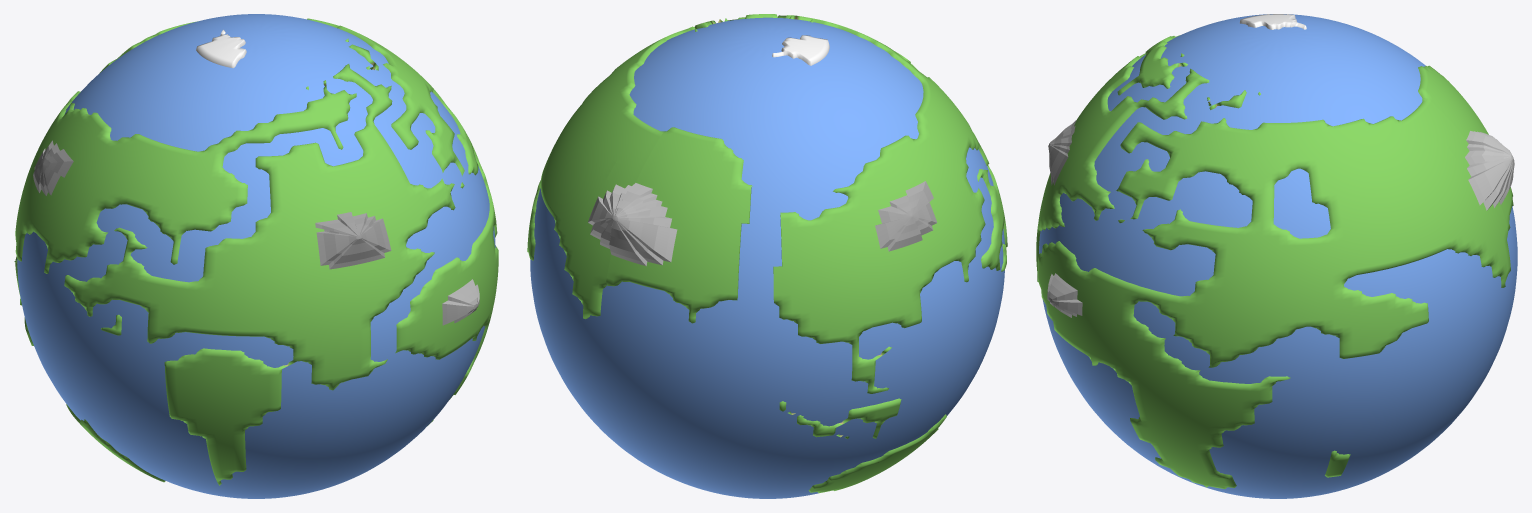
File: Earth.fbx
3 views of the same model, side by side, from view 1: azimuth 30°, elevation 25°; view 2: azimuth 150°, elevation 25°; view 3: azimuth 270°, elevation 25° (orthographic).
Parts seen in each view (by area): view 1: Land, Water; view 2: Water, Land; view 3: Land, Water.
Part boxes in pixels (x1,y1,x2,y2): Land: (14, 18, 498, 485); Water: (17, 14, 495, 498); Water: (530, 17, 1004, 498); Land: (527, 14, 1007, 493); Land: (1036, 14, 1514, 488); Water: (1039, 14, 1517, 498).
Bounding box in the file's own units: 3650 × 3732 × 3650.
